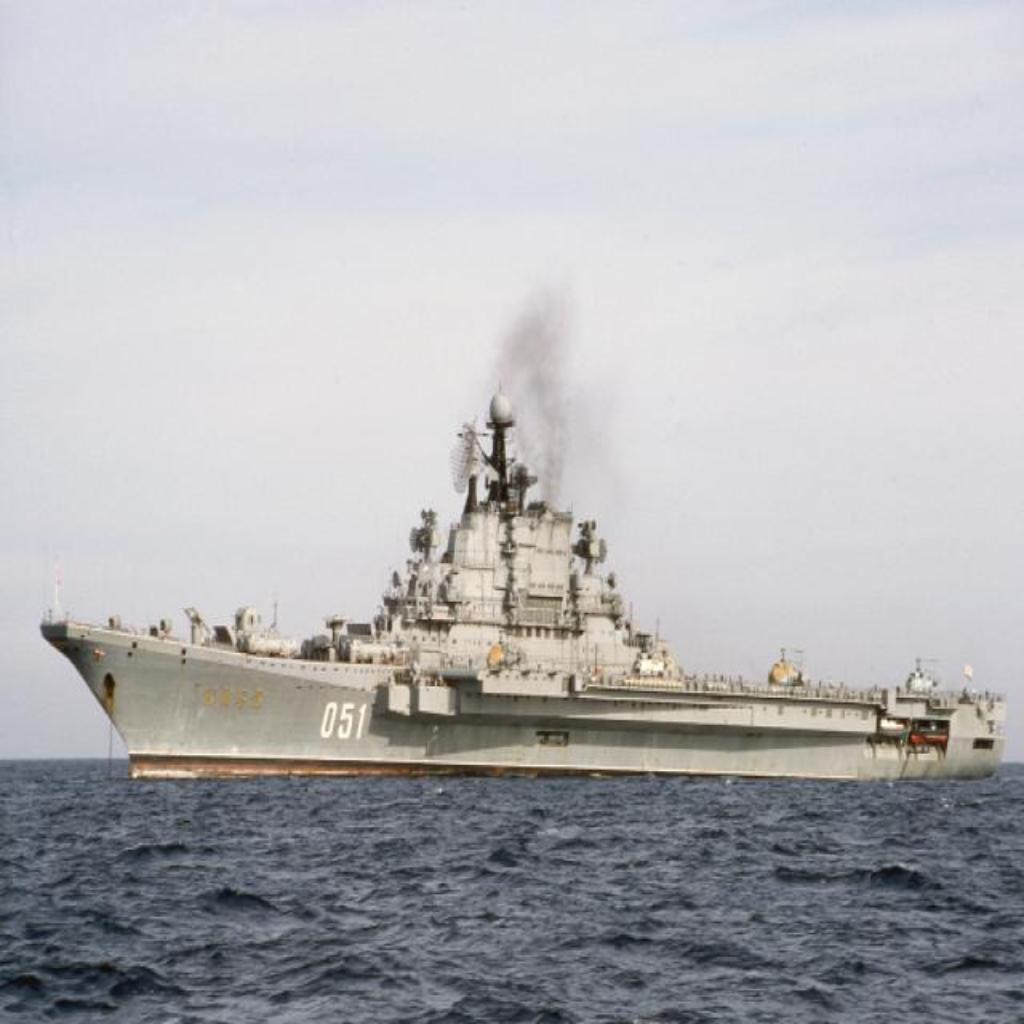Warship: (39, 388, 1003, 788)
